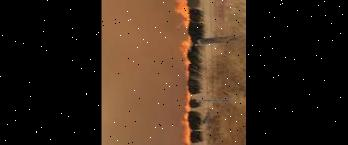fire: (175, 0, 200, 145)
